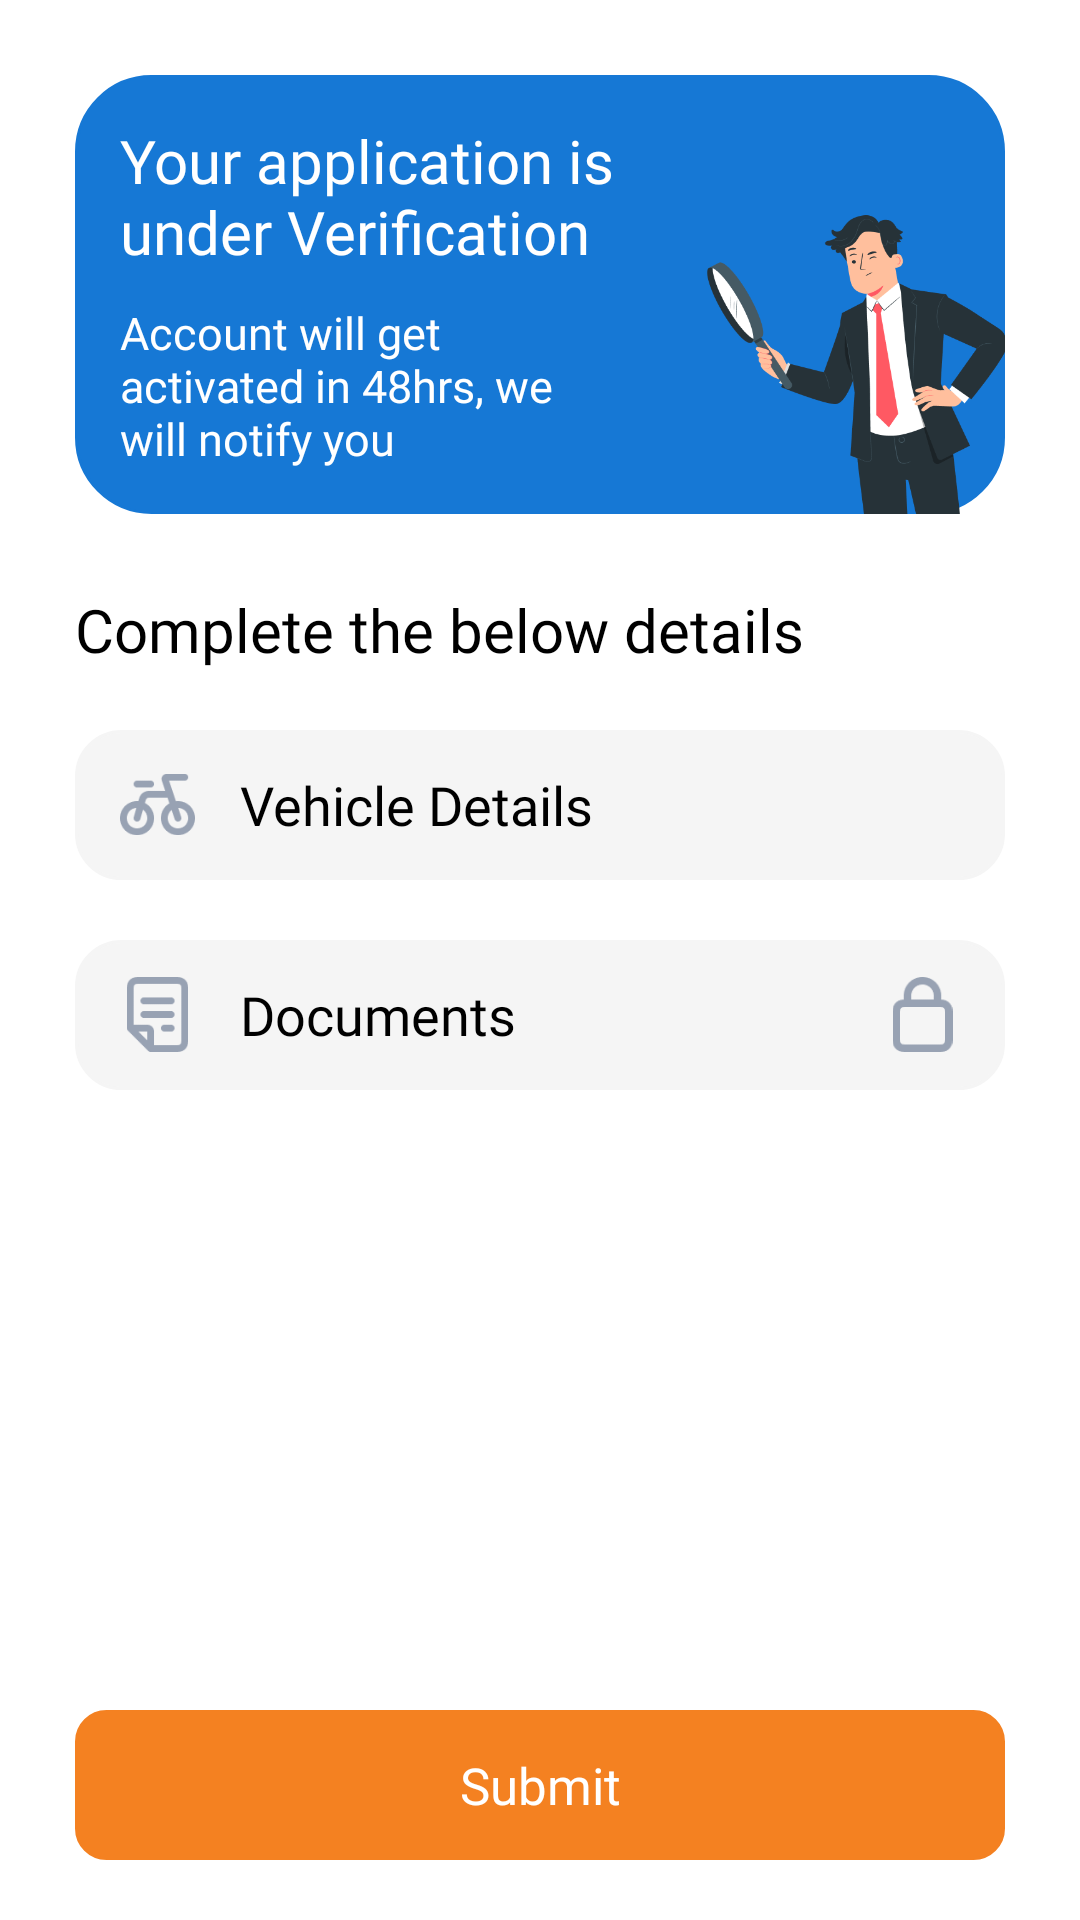

Named icons in this screenshot (1080w x 1920h) and their centers, point (x, y):
cycle: point (157, 804)
doc: point (157, 1014)
